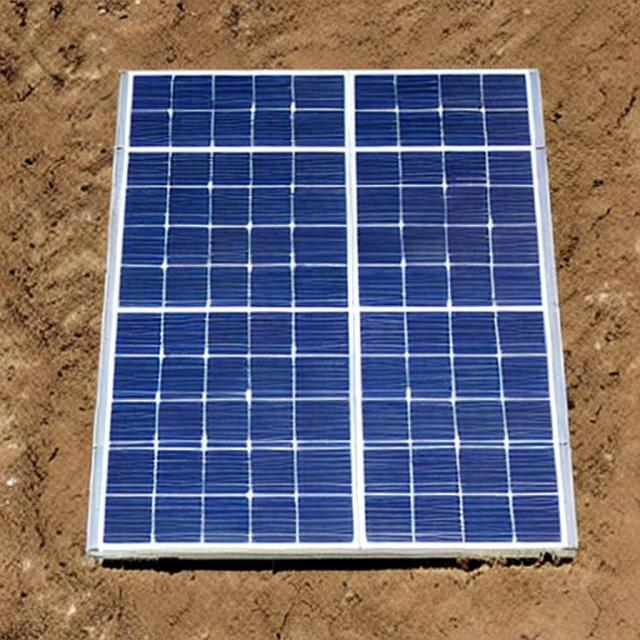no faulty: (119, 73, 561, 550)
